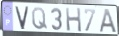3: (50, 7, 63, 32)
7: (84, 8, 98, 33)
A: (99, 8, 118, 34)
H: (64, 7, 83, 34)
Q: (31, 6, 49, 31)
V: (15, 6, 31, 31)
